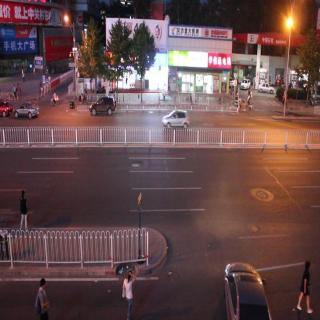Car: (224, 257, 272, 320), (161, 106, 190, 138), (88, 94, 119, 118), (12, 102, 40, 126), (0, 94, 14, 128)
